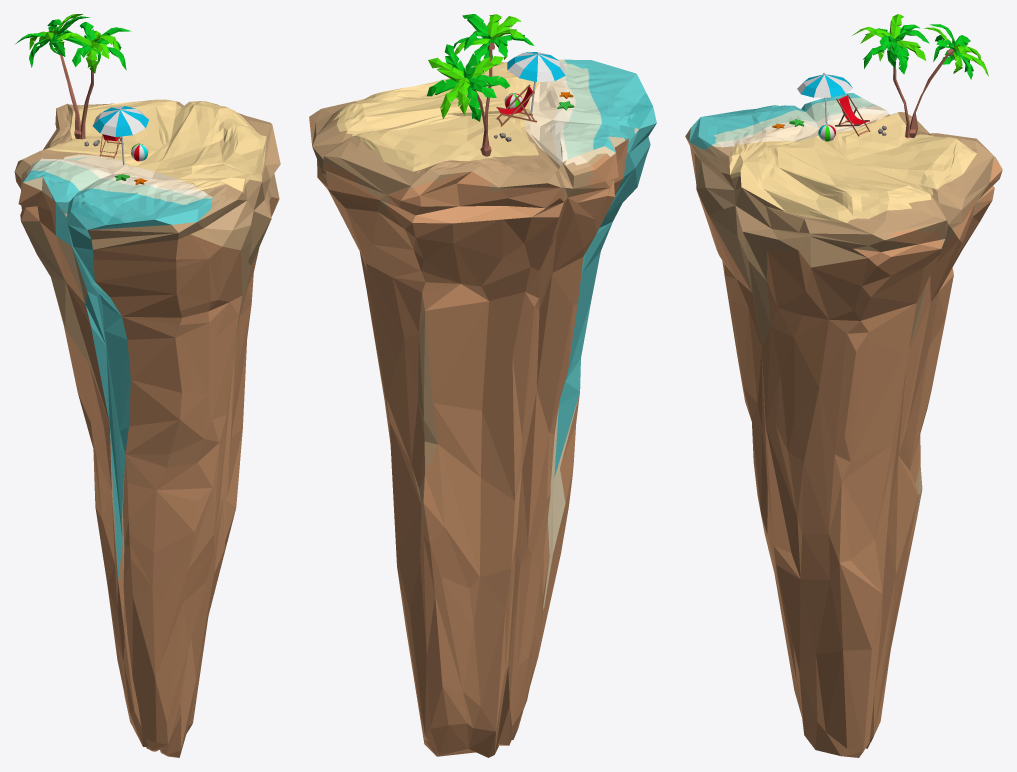
Rendered from Rock7.fbx.
3 renders of one model, left to right at view 1: azimuth 30°, elevation 25°; view 2: azimuth 150°, elevation 25°; view 3: azimuth 270°, elevation 25°, orthographic. The views are drawn at different scales.
Parts seen in each view (by area): view 1: rock2, PalmTree, Cylinder.006; view 2: rock2, PalmTree, Cylinder.006, deck_chair; view 3: rock2, PalmTree, Cylinder.006, deck_chair.
Part boxes in pixels (x1,y1,x2,y2): rock2: (14,99,280,757); PalmTree: (15,14,131,139); Cylinder.006: (93,106,148,165); rock2: (309,59,656,757); PalmTree: (427,14,534,156); Cylinder.006: (507,52,565,113); deck_chair: (496,84,536,126); rock2: (685,93,1002,757); PalmTree: (852,14,988,138); Cylinder.006: (797,72,852,123); deck_chair: (835,94,870,136).
Bounding box in the file's own units: 329 × 830 × 341.
Materials: 19 (1 with a texture image).
